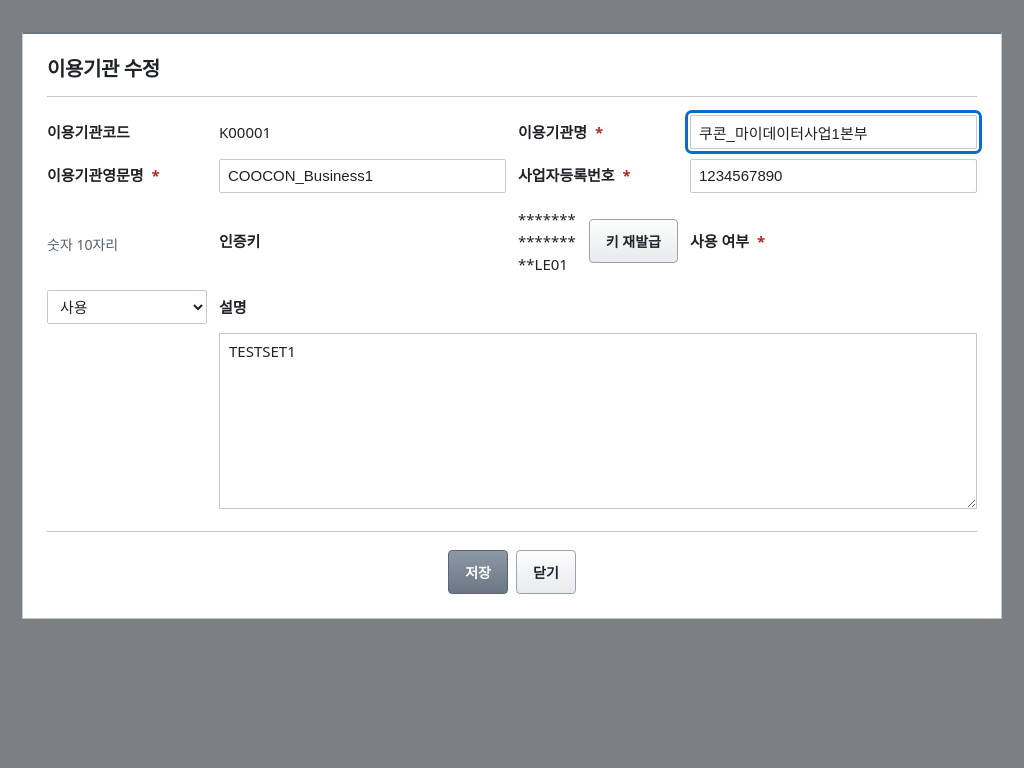
Test: InstitutionEditDialog › 서버 검증 오류를 해당 칸에 표시한다 / shows a server violation beside its field
Check: the field labelled "이용기관명 *" is shown, box [690,115,977,149]
Click the button "저장".
click(478, 572)  # box [448,550,508,594]
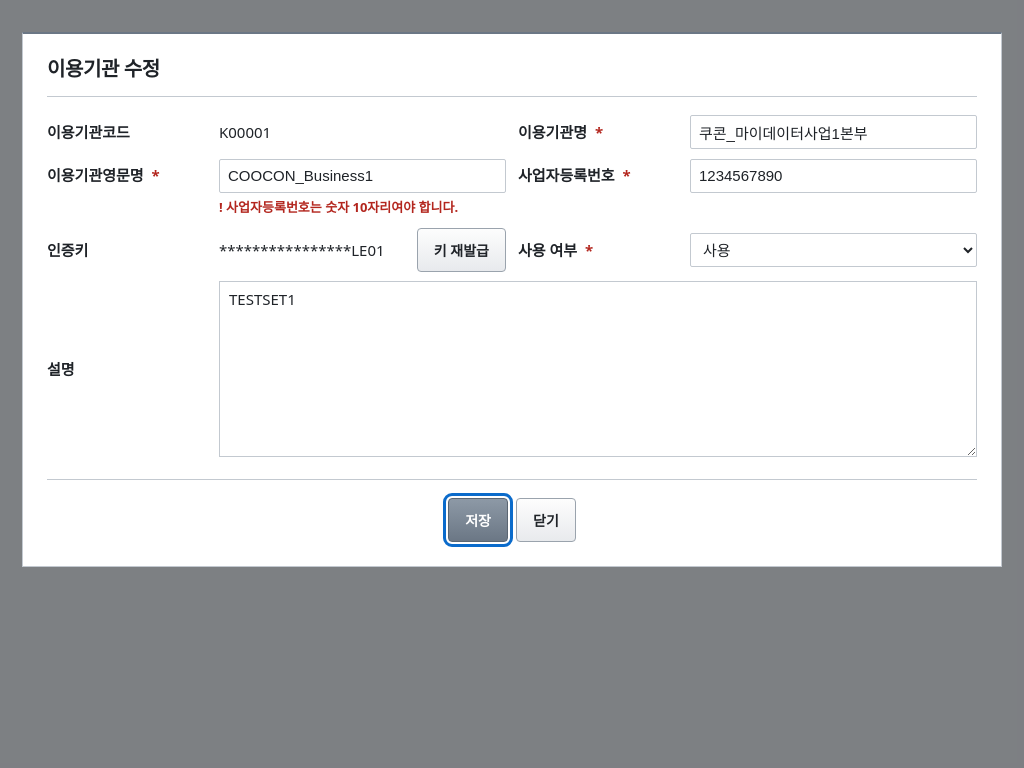
Check: the text "사업자등록번호는 숫자 10자리여야 합니다." is shown, box [226,198,458,216]
